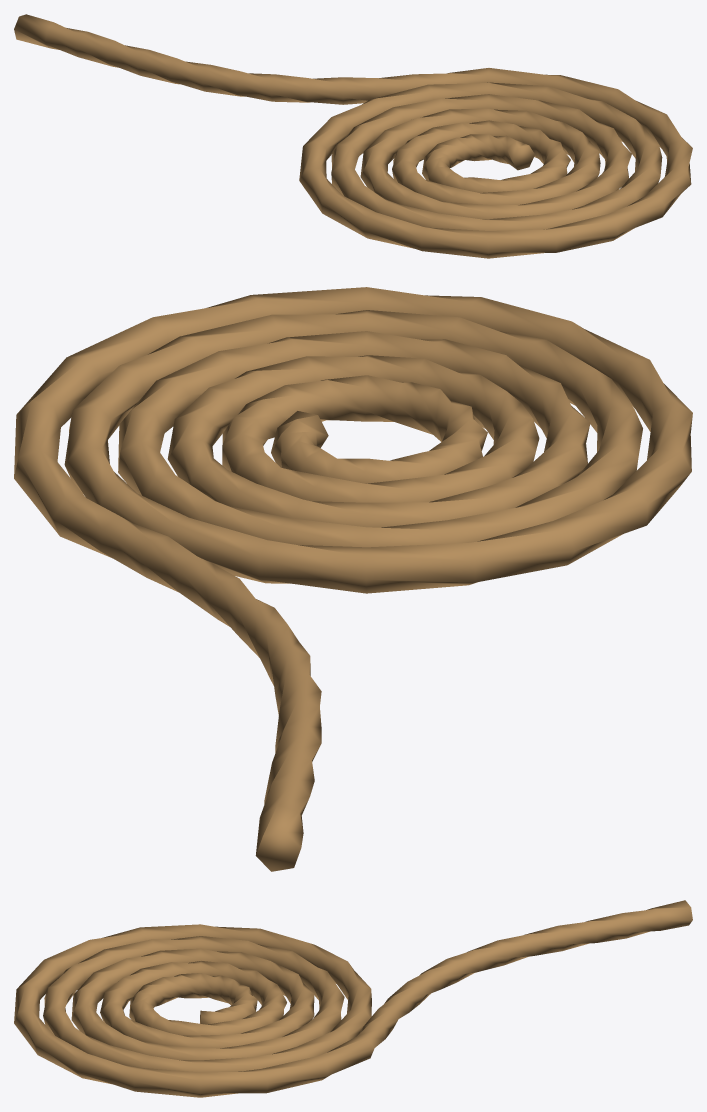
The model's file is coiled-rope_final.glb.
The picture shows the model from 3 angles, top to bottom: view 1: azimuth 30°, elevation 25°; view 2: azimuth 150°, elevation 25°; view 3: azimuth 270°, elevation 25°; orthographic projection. The views are drawn at different scales.
Parts seen in each view (by area): view 1: SM_CoiledRope; view 2: SM_CoiledRope; view 3: SM_CoiledRope.
Boxes of the visible parts, box(x1,y1,x2,y2) form: SM_CoiledRope: box(14, 14, 692, 258); SM_CoiledRope: box(14, 287, 692, 871); SM_CoiledRope: box(14, 900, 692, 1097).
Size of the model in its own units: 0.4001 by 0.024 by 0.6298.
